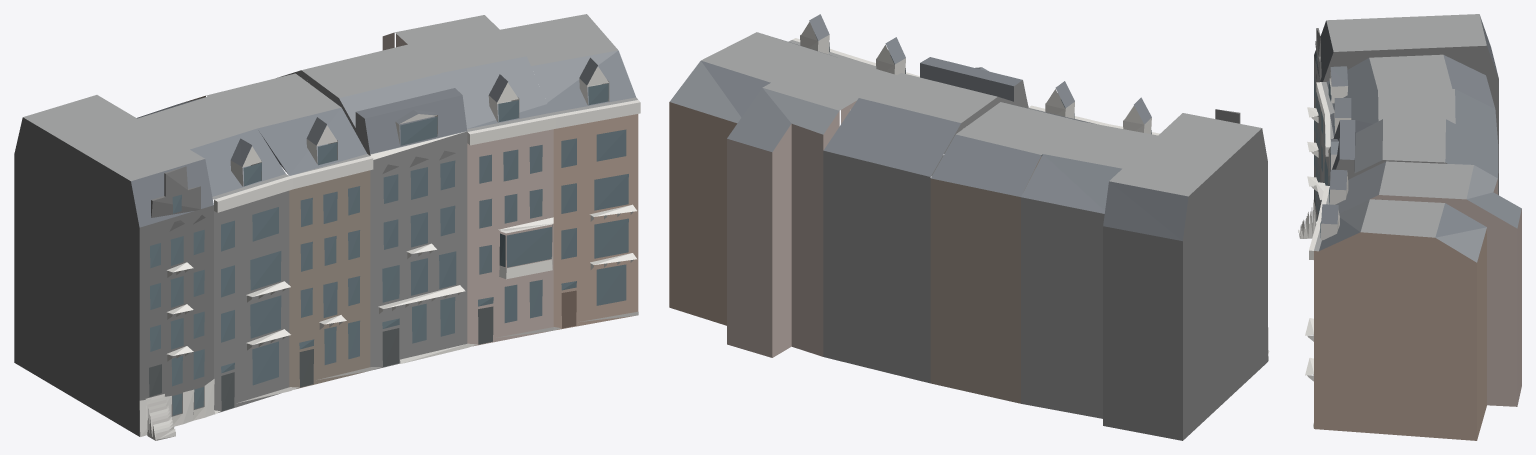
File: chunk-face-nassau-145-152.lod2.glb
3 renders of one model, left to right at view 1: azimuth 30°, elevation 25°; view 2: azimuth 150°, elevation 25°; view 3: azimuth 270°, elevation 25°, orthographic. The views are drawn at different scales.
Visible parts, largest first — view 1: lod2; view 2: lod2; view 3: lod2.
Part boxes in pixels (box(x1,y1,x2,y2)): lod2: box(14, 14, 640, 440); lod2: box(669, 14, 1269, 440); lod2: box(1298, 14, 1521, 440).
Size of the model in its own units: 40.99 by 18.31 by 17.59.
